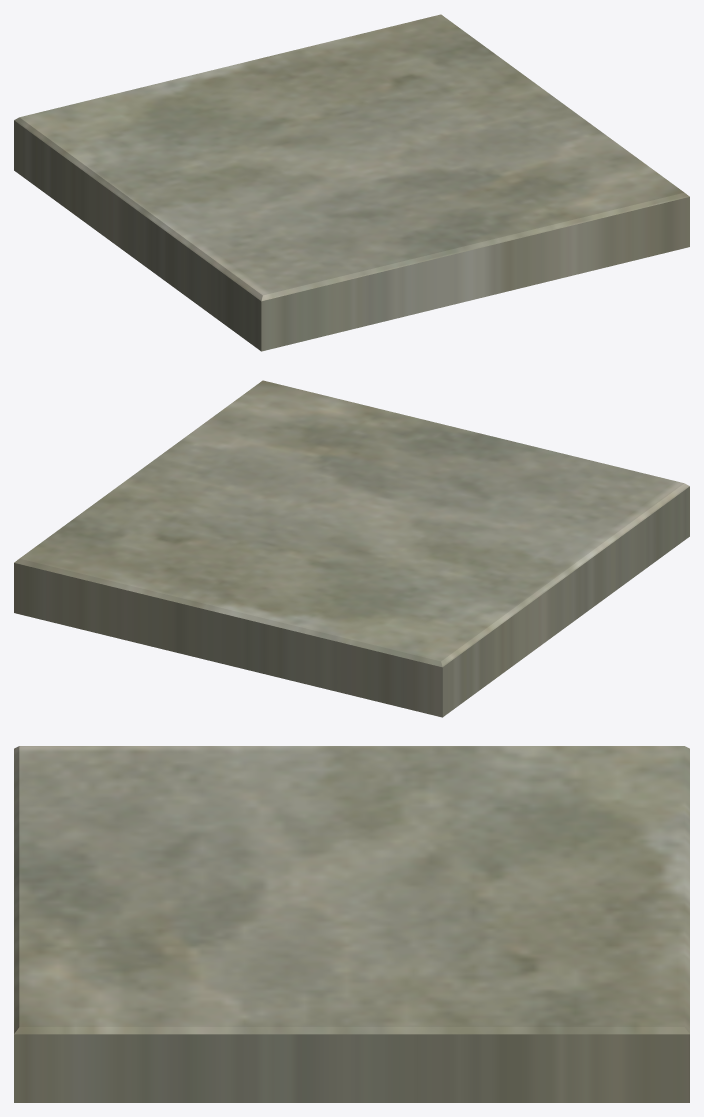
File: f03-t-stone-quarter-c3.glb
3 renders of one model, top to bottom at view 1: azimuth 30°, elevation 25°; view 2: azimuth 150°, elevation 25°; view 3: azimuth 270°, elevation 25°, orthographic. The views are drawn at different scales.
Parts seen in each view (by area): view 1: f03-t-stone-quarter-c3; view 2: f03-t-stone-quarter-c3; view 3: f03-t-stone-quarter-c3.
Boxes of the visible parts, x1,y1,x2,y2 form: f03-t-stone-quarter-c3: [14, 14, 689, 351]; f03-t-stone-quarter-c3: [14, 380, 689, 717]; f03-t-stone-quarter-c3: [14, 746, 689, 1102].
Bounding box in the file's own units: 0.5 × 0.06 × 0.5.
1 material, 1 textured.
